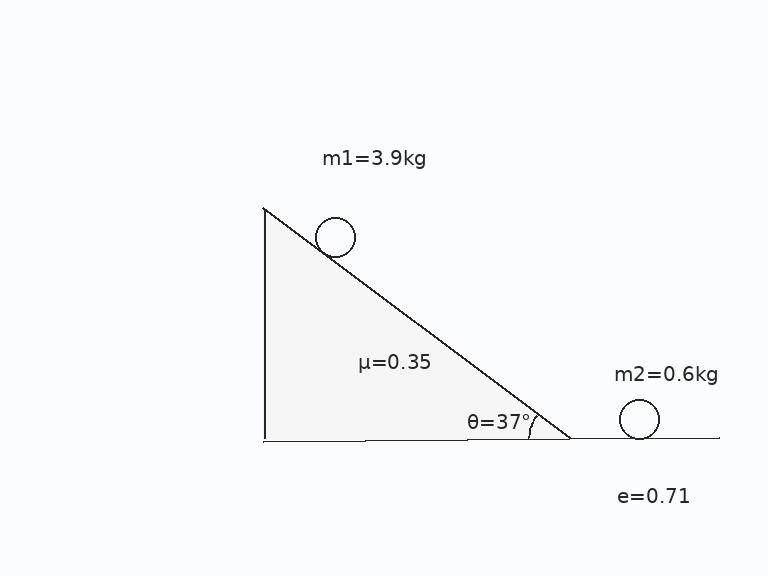ball: (313, 215, 357, 259), (617, 397, 661, 441)
ramp: (262, 207, 571, 441)
